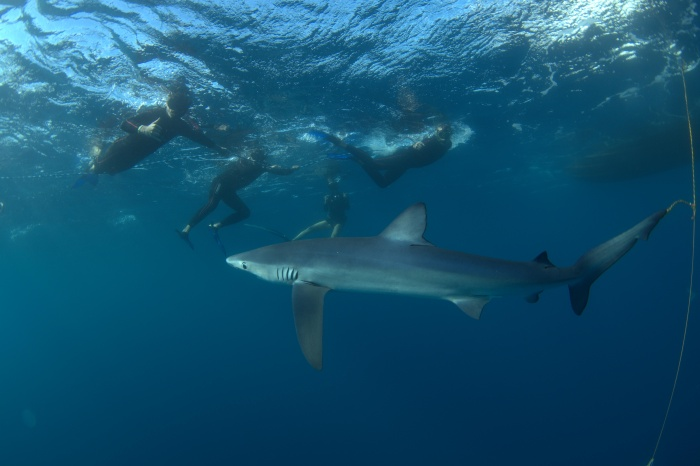Azul: (216, 196, 685, 378)
